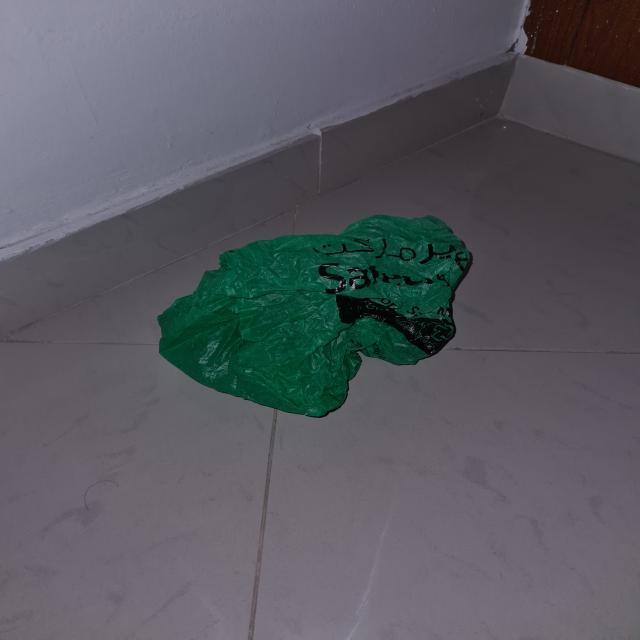Plastic_Bag: (118, 192, 500, 422)
